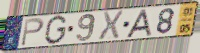8: (156, 8, 176, 35)
9: (75, 13, 96, 42)
A: (124, 8, 153, 39)
G: (43, 14, 69, 46)
P: (19, 17, 46, 48)
X: (97, 10, 125, 42)
